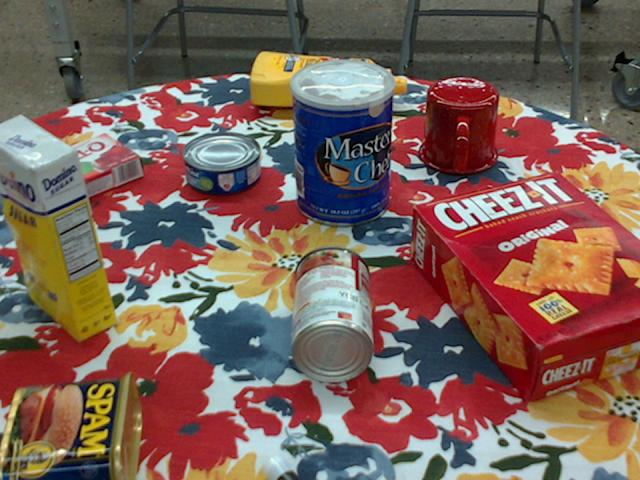cracker_box: (409, 171, 639, 404)
gelatin_box: (36, 136, 142, 206)
large_marker: (262, 455, 299, 479)
master_chef_can: (291, 59, 395, 227)
mug: (417, 78, 499, 175)
mustard_bottle: (248, 51, 405, 108)
potted_meat_can: (0, 371, 140, 479)
sugar_box: (0, 113, 115, 341)
tomato_soup_can: (292, 246, 375, 383)
tuna_fish_can: (181, 132, 259, 195)
